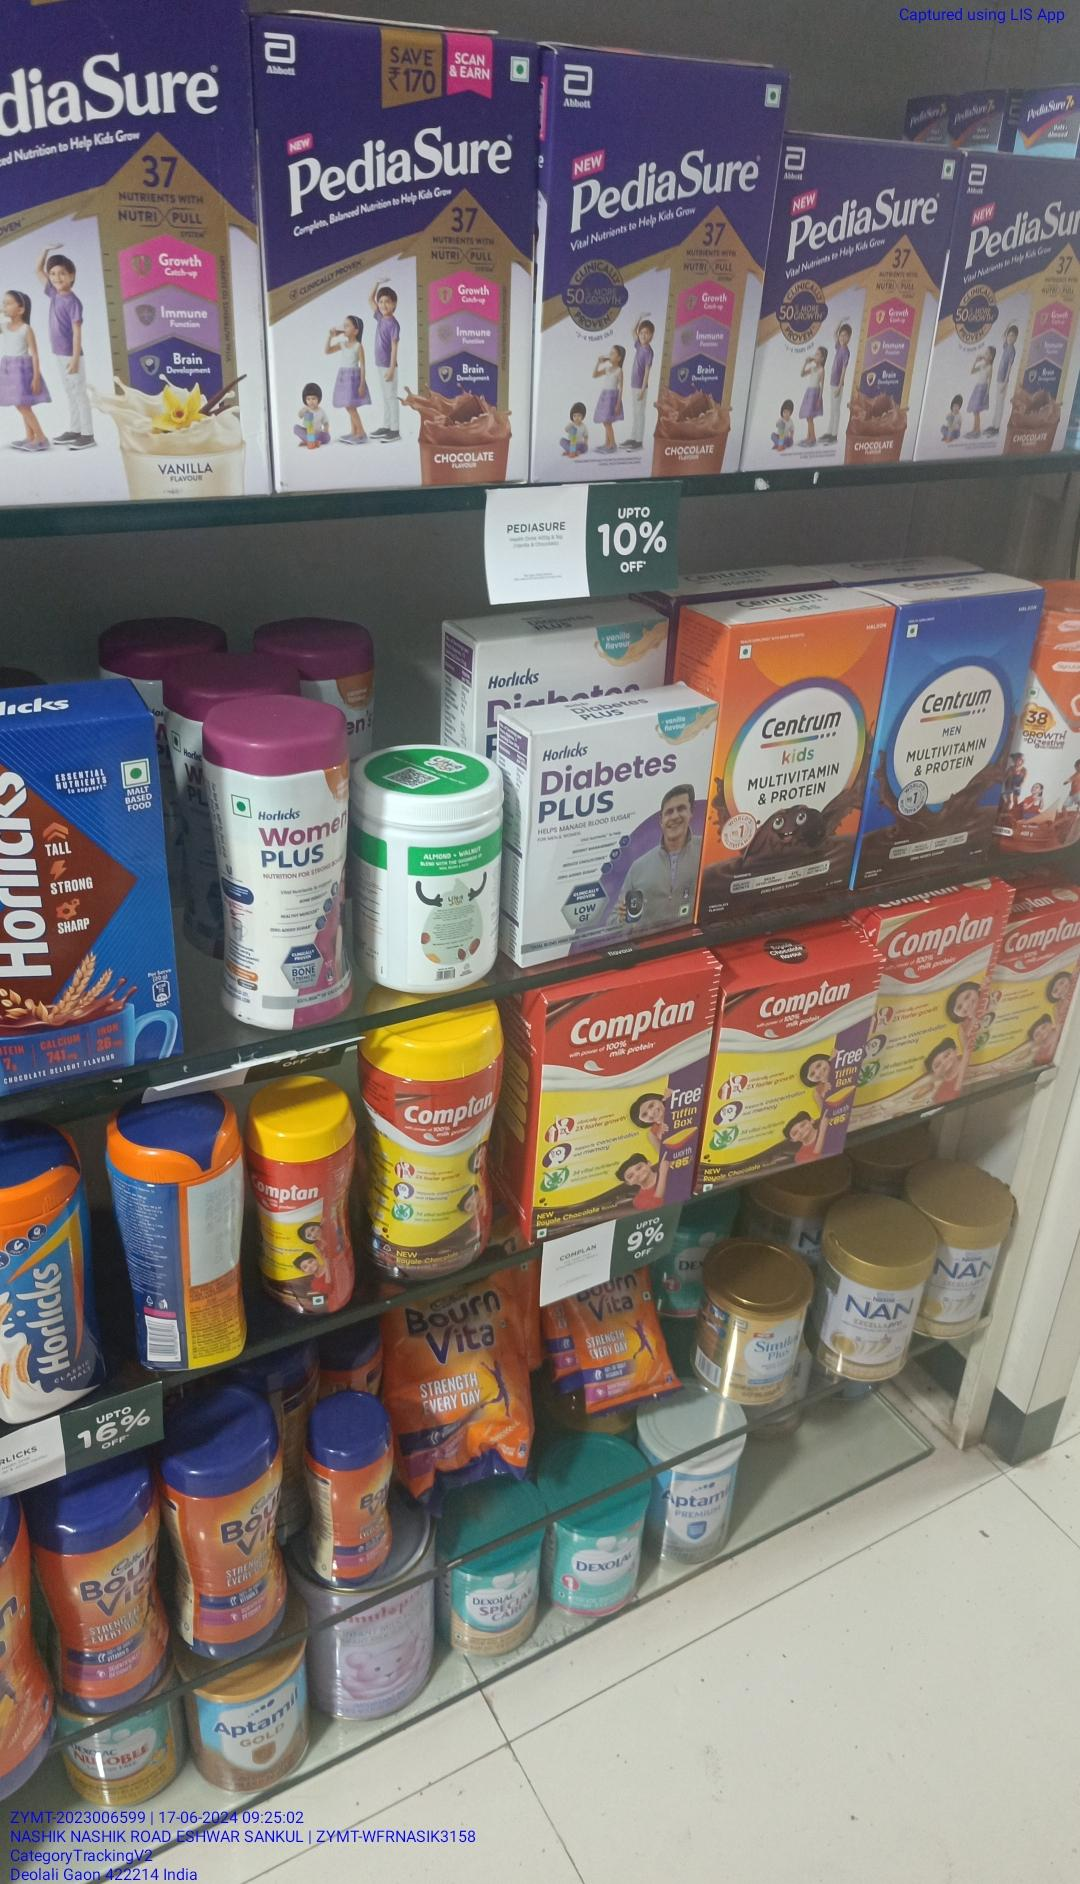COMPLAN_CHOCOLATE_200_GMS_JAR: (244, 1079, 351, 1315)
COMPLAN_CHOCOLATE_500_GMS_JAR: (361, 994, 503, 1278)
HORLICK_CLASSIC_MALT_500_G_JAR: (0, 1119, 106, 1422)
PEDIASURE_CHOCOLATE_500_G_PACK: (758, 132, 940, 458), (943, 155, 1080, 446)
